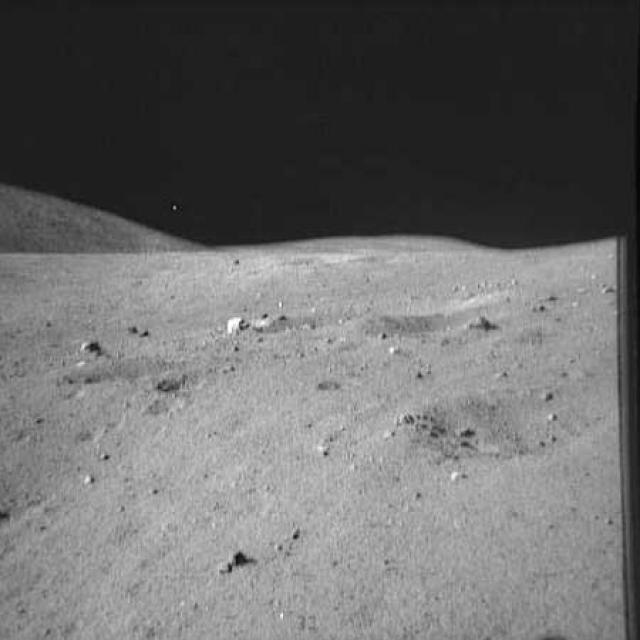crater: (388, 377, 616, 481), (60, 346, 192, 397), (355, 308, 508, 344), (242, 301, 369, 342), (151, 367, 219, 400), (319, 372, 362, 394)
rock: (212, 543, 253, 581), (461, 312, 498, 334), (73, 337, 110, 359), (223, 315, 259, 335), (124, 321, 156, 338)
